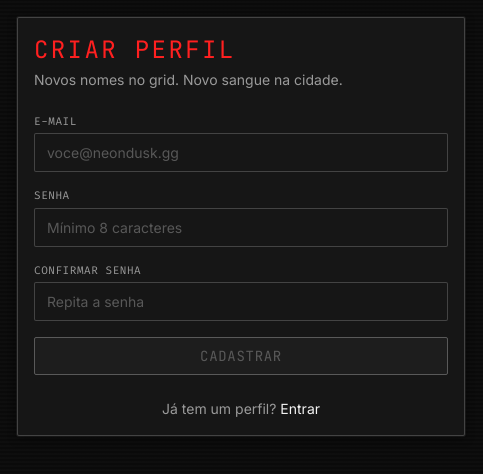
RegisterView › should show an inline error for a short password
The image size is (483, 474).
Type "Ab1" into the password field with placeholder "Mínimo 8 caracteres".
click(241, 227); type("Ab1")  # box [34,208,448,247]
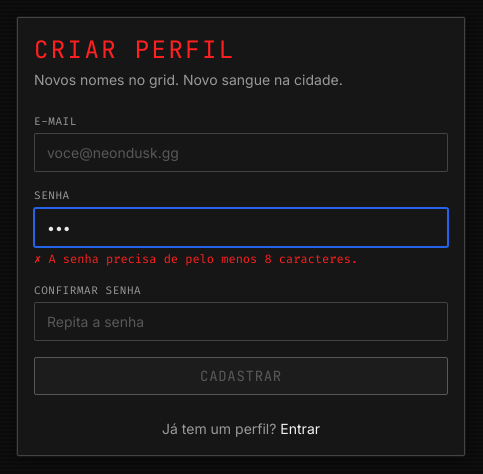
Check: the text "✗ A senha precisa de pelo menos 8 caracteres." is shown, box [34,251,358,267]
